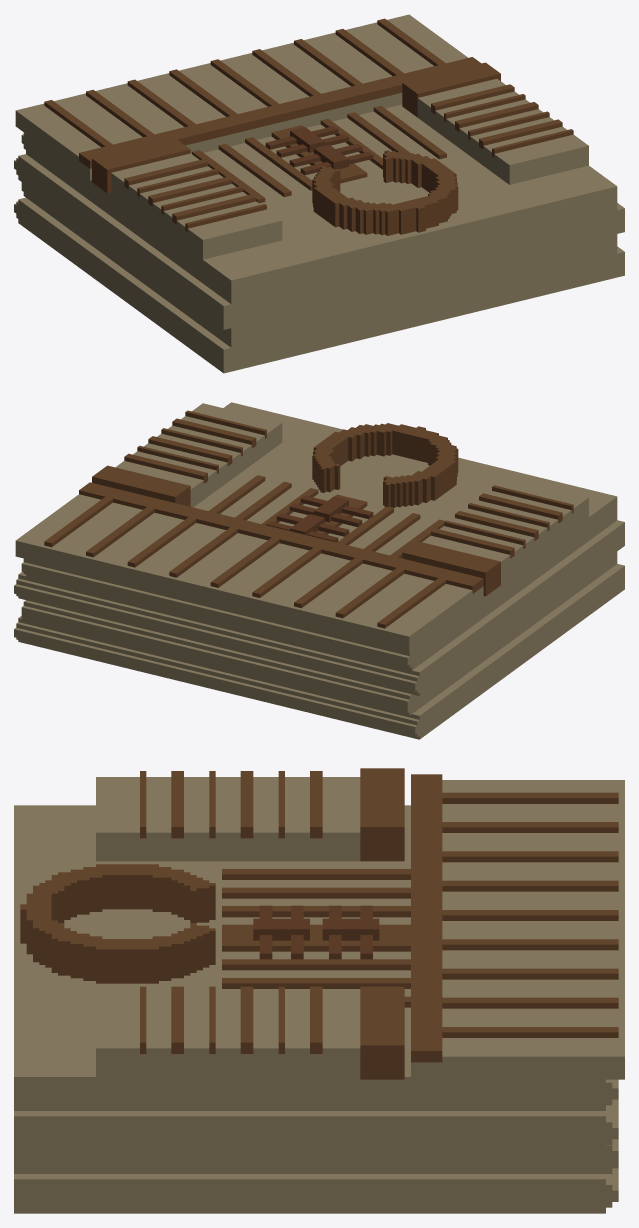
File: gambeson_canvas.glb
3 renders of one model, top to bottom at view 1: azimuth 30°, elevation 25°; view 2: azimuth 150°, elevation 25°; view 3: azimuth 270°, elevation 25°, orthographic. The views are drawn at different scales.
Parts seen in each view (by area): view 1: gambeson_canvas:compound; view 2: gambeson_canvas:compound; view 3: gambeson_canvas:compound.
Part boxes in pixels (left/top/right/bottom): gambeson_canvas:compound: left=14, top=14, right=624, bottom=373; gambeson_canvas:compound: left=14, top=402, right=624, bottom=739; gambeson_canvas:compound: left=14, top=768, right=624, bottom=1213.
Size of the model in its own units: 0.424 by 0.116 by 0.388.
